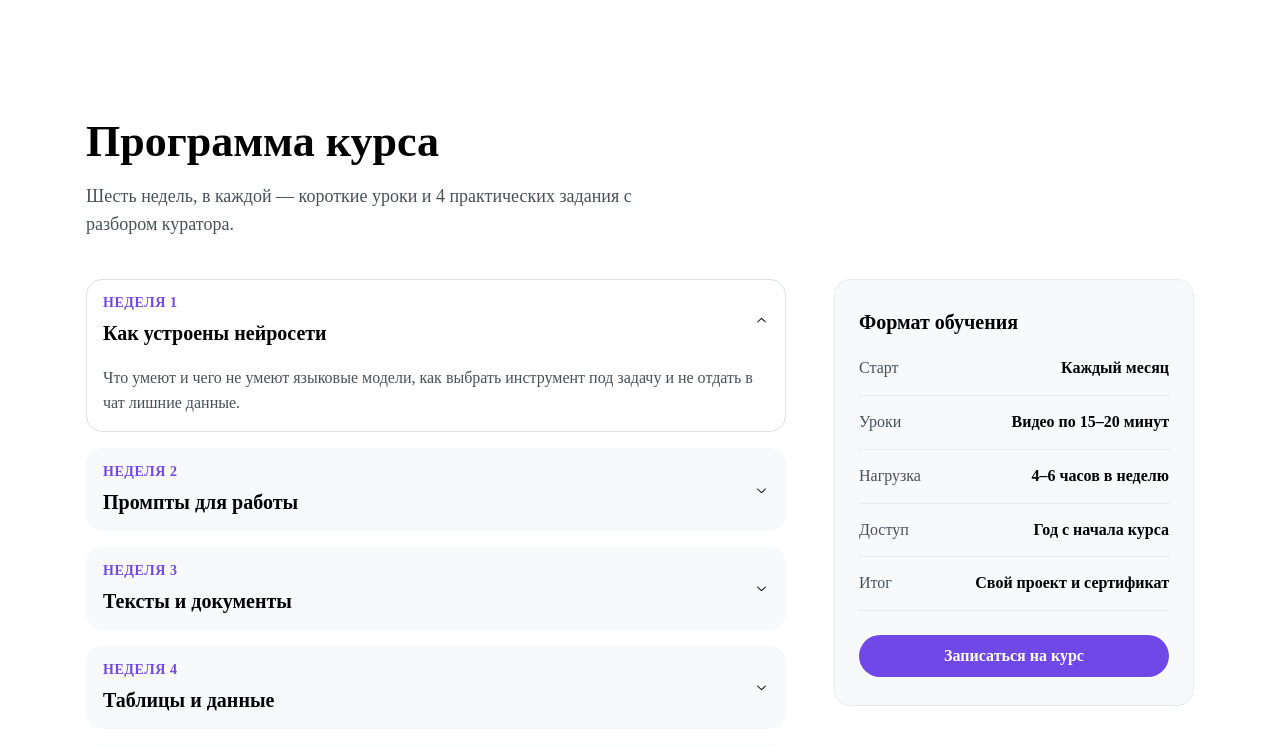
Test: SectionProgram › первый модуль открыт, по клику открывается другой
The image size is (1280, 746).
Click the button "Неделя 2 Промпты для работы" at [140, 472], box [87,450,785,530]
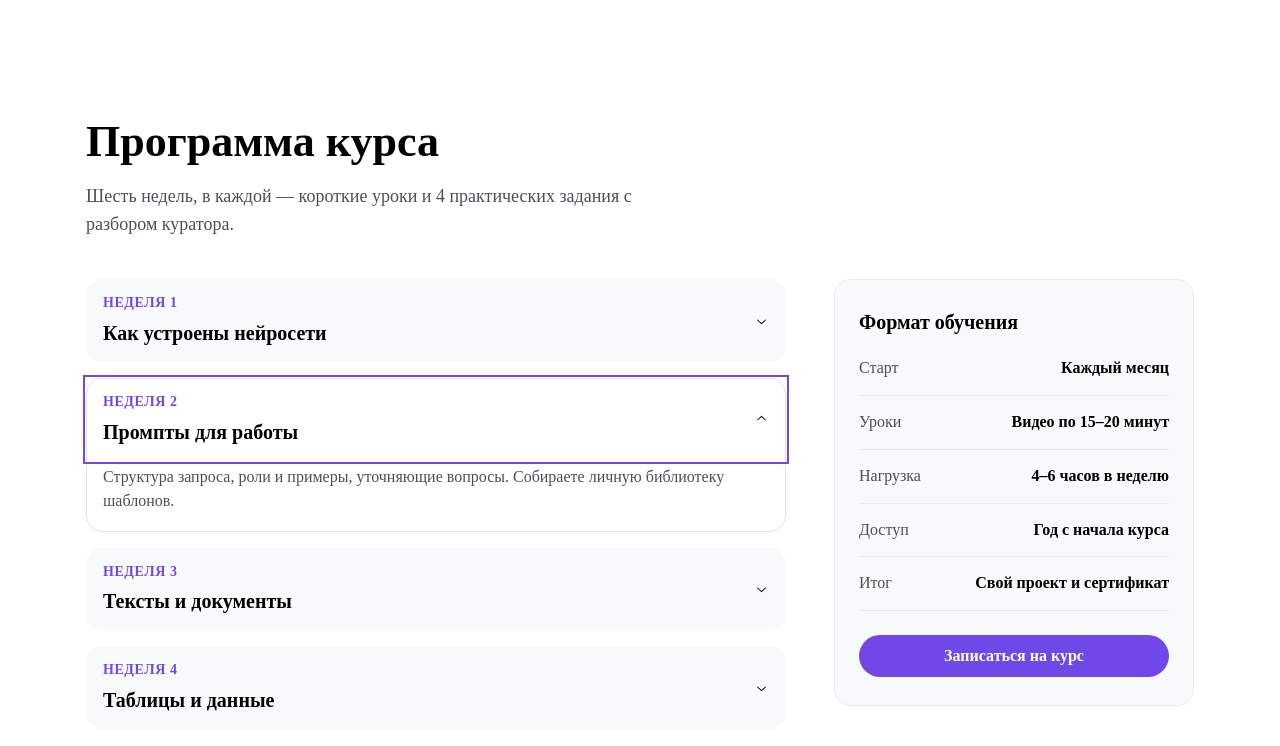
Now the button "Неделя 1 Как устроены нейросети" is collapsed, box [87,280,785,361]
Now the button "Неделя 2 Промпты для работы" is expanded, box [87,379,785,460]
